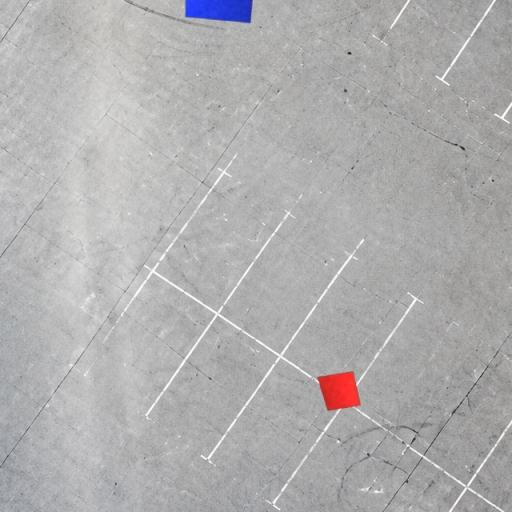RED_SQUARE: (316, 370, 362, 412)
